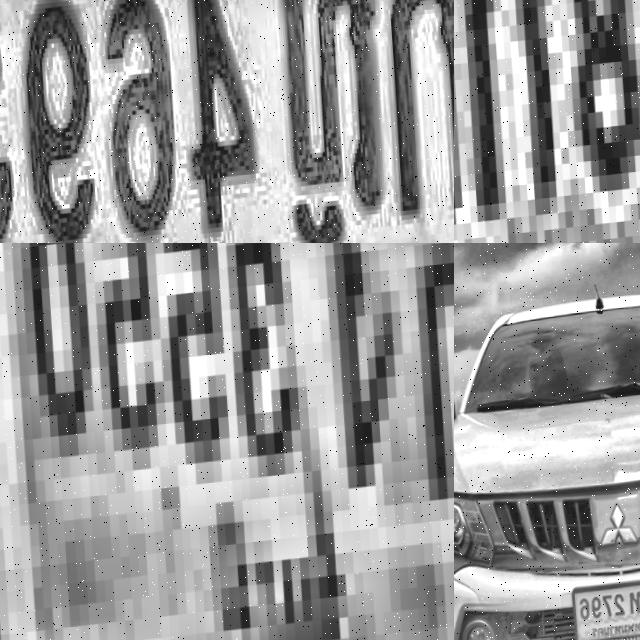license-plate: (0, 243, 454, 640), (0, 0, 454, 243), (454, 0, 640, 243), (570, 573, 640, 640)
